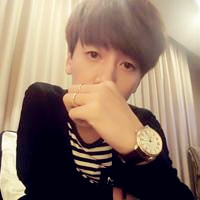face: (72, 22, 144, 111)
